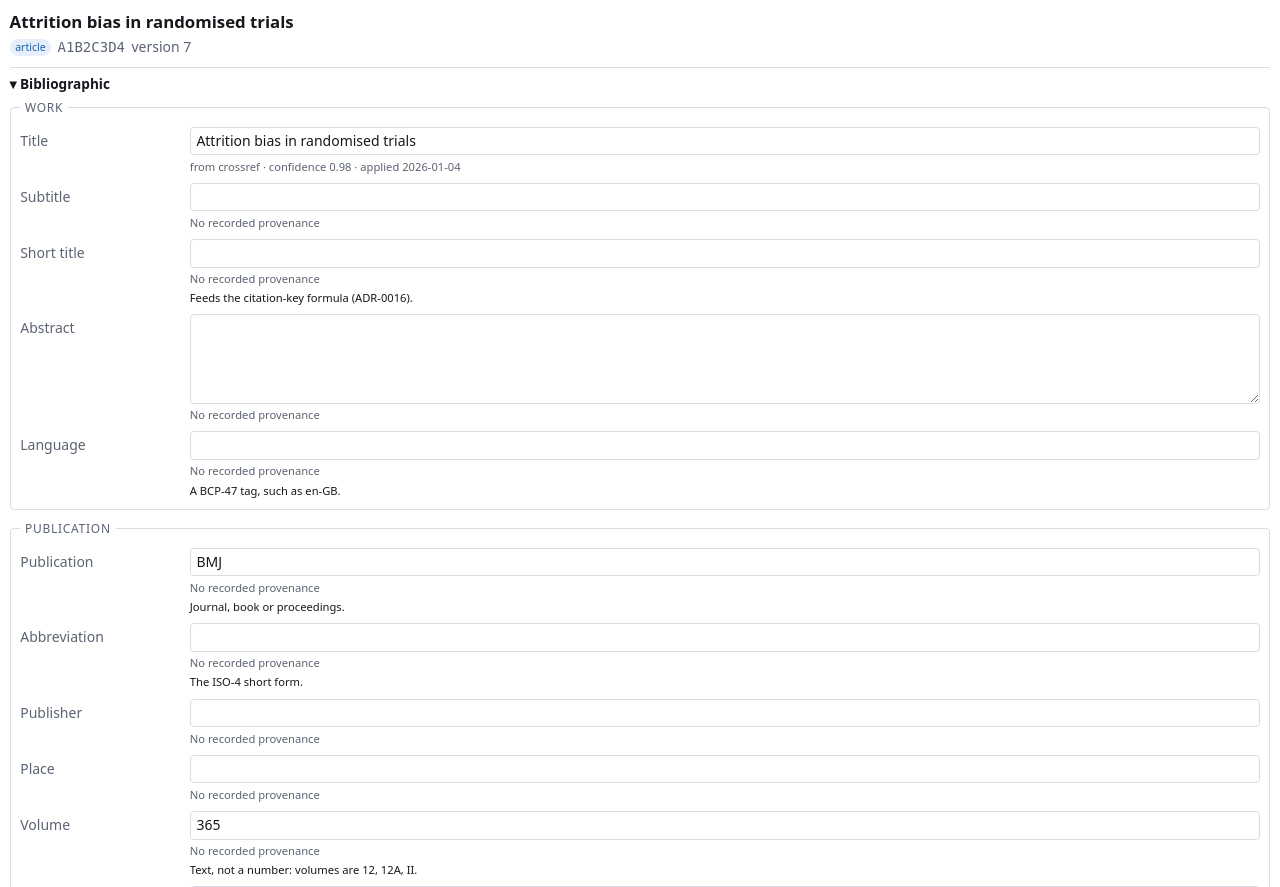
Test case: the item pane › reports a rejected write as its problem document
Replace the text in the field labelled "Volume" with "366" at {"x": 725, "y": 825}, box [190,811,1260,840]
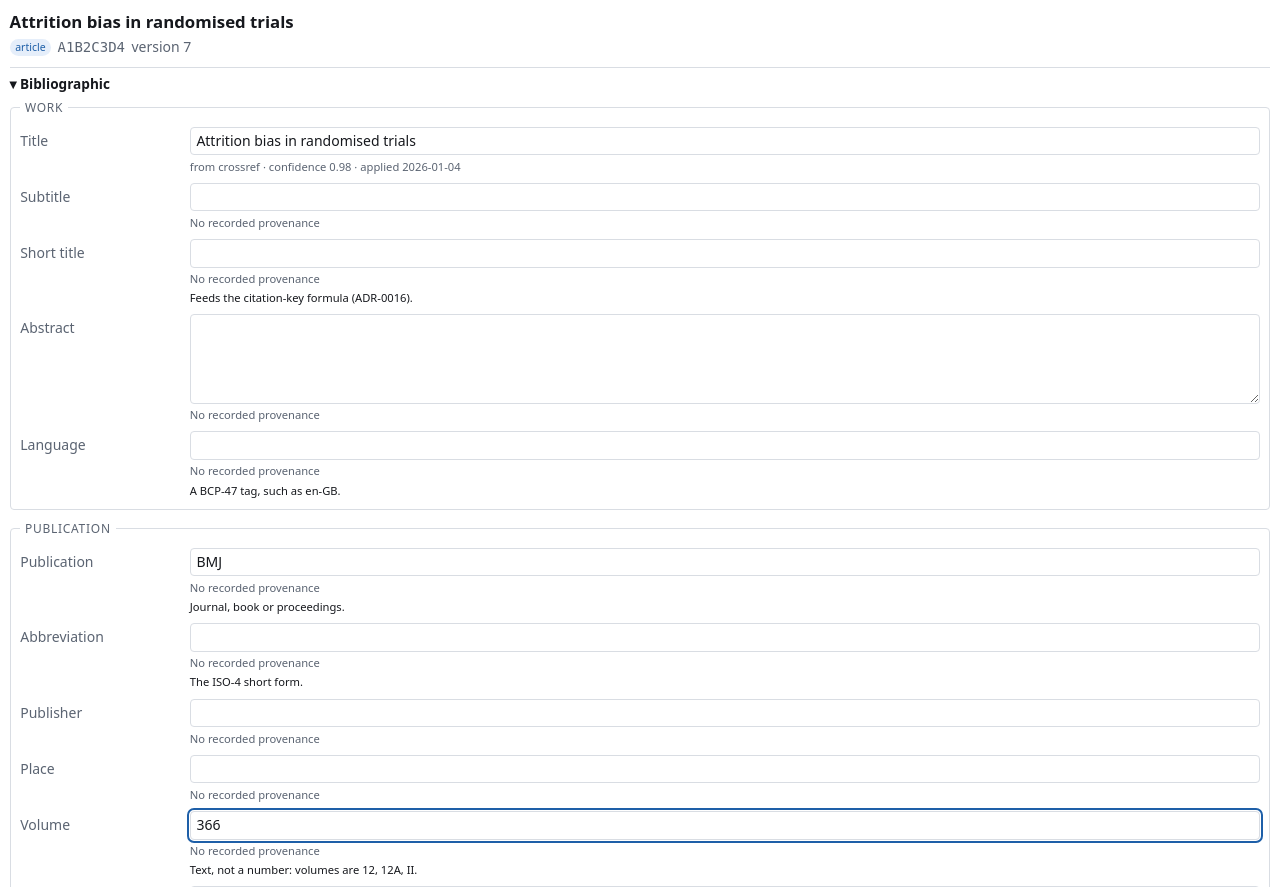
Press Tab
(page scrolled)
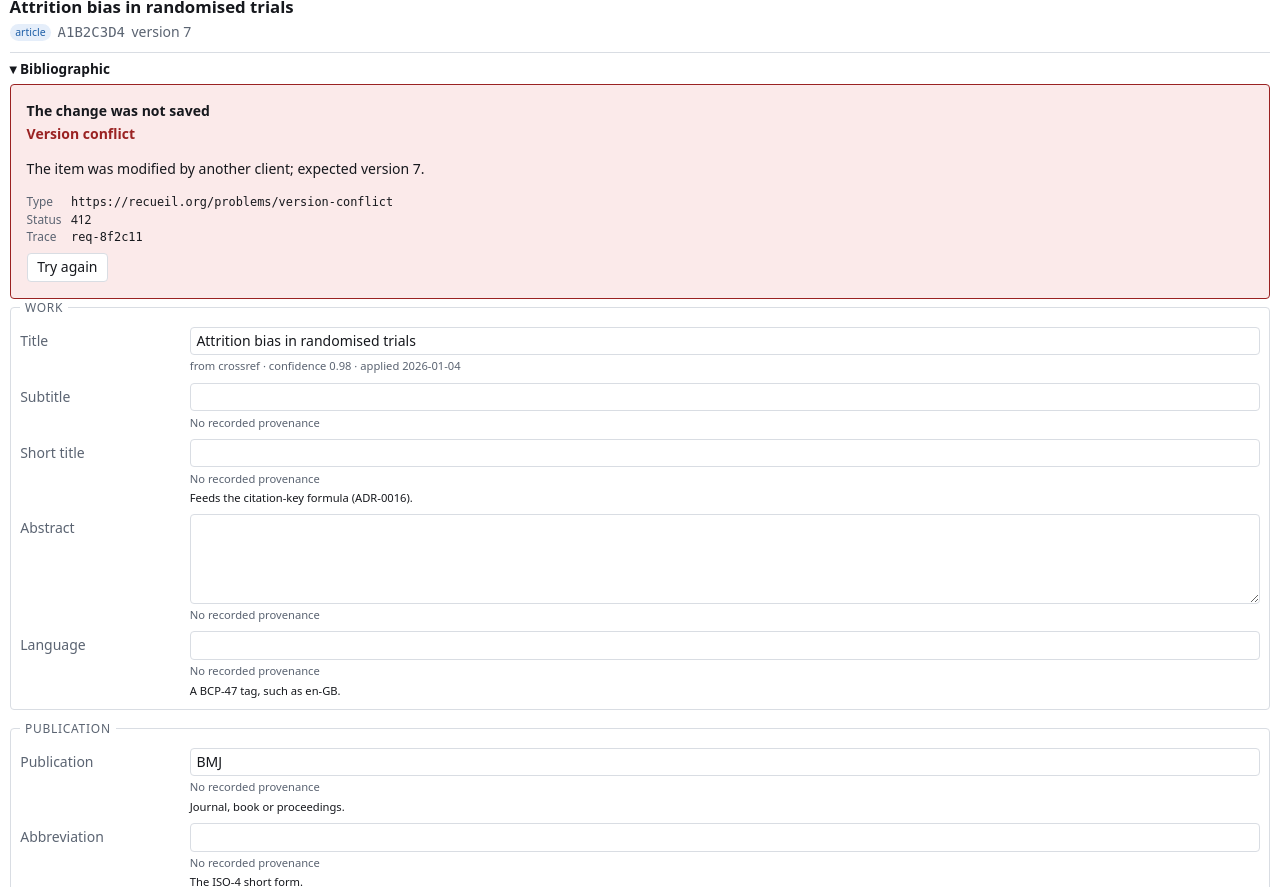
expect the text "The change was not saved" is shown: met, box [27,101,210,120]
expect the text with test id "problem-detail" reads "The item was modified by another client; expected version 7.": met, box [27,159,425,178]
expect the text with test id "problem-type" reads "https://recueil.org/problems/version-conflict": met, box [71,195,393,209]
